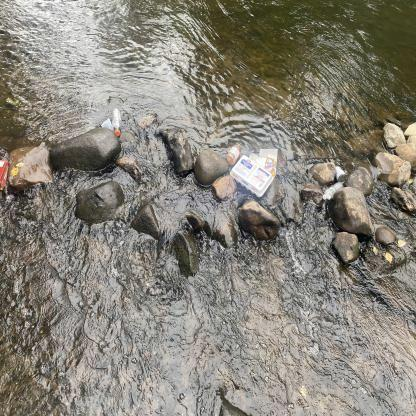Glass: (223, 141, 243, 167)
Metal: (334, 164, 348, 185)
Plastic: (230, 148, 280, 199), (102, 106, 123, 136), (321, 180, 346, 202)
